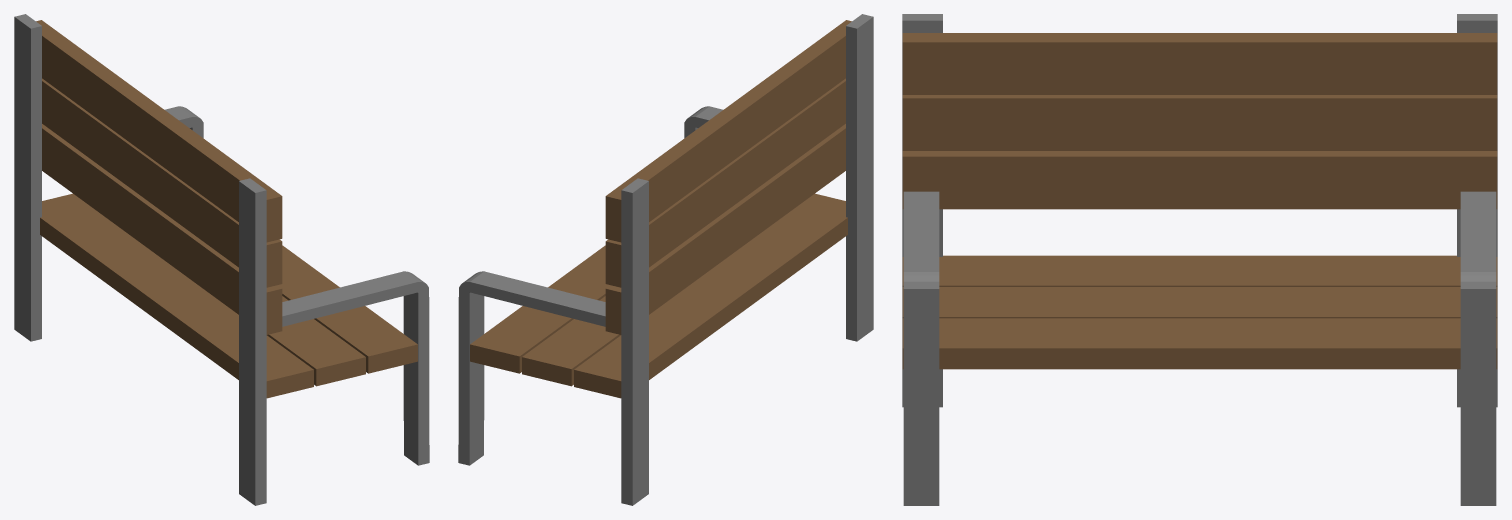
Rendered from Banco.fbx.
The picture shows the model from 3 angles, left to right: view 1: azimuth 30°, elevation 25°; view 2: azimuth 150°, elevation 25°; view 3: azimuth 270°, elevation 25°; orthographic projection. The views are drawn at different scales.
Visible parts, largest first — view 1: Banco; view 2: Banco; view 3: Banco.
Boxes of the visible parts, x1=… form: Banco: x1=14, y1=14, x2=429, y2=505; Banco: x1=458, y1=14, x2=873, y2=505; Banco: x1=902, y1=14, x2=1497, y2=505.
Size of the model in its own units: 63.07 by 108 by 151.
